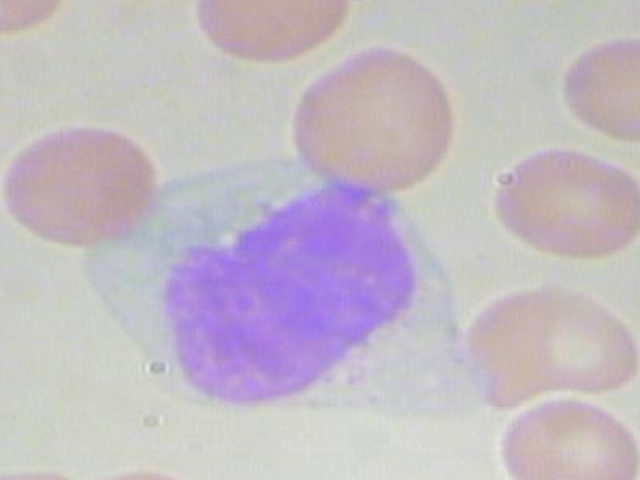RBC: (279, 37, 468, 199), (456, 283, 640, 411), (0, 119, 178, 247), (483, 142, 640, 266), (482, 388, 640, 480), (555, 28, 640, 154), (0, 62, 4, 212), (635, 0, 640, 96)
WBC: (83, 157, 493, 440)
